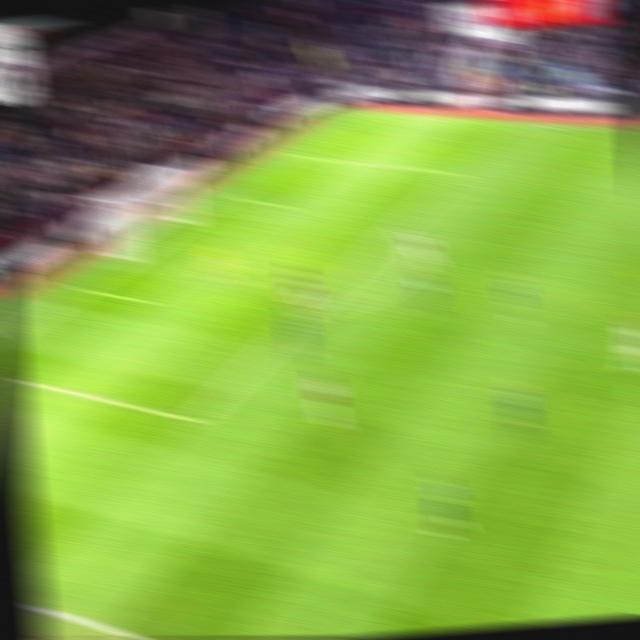bigarea_bottom_inner: (178, 408, 206, 433)
bigarea_top_inner: (444, 166, 470, 183)
bigarea_top_outter: (279, 149, 303, 160)
bottom_arc_area_intersection: (292, 305, 318, 326)
corner: (346, 107, 371, 119)
smallarea_bottom_inner: (134, 293, 159, 309)
smallarea_bottom_outter: (71, 283, 96, 296)
smallarea_top_inner: (268, 197, 292, 215)
smallarea_top_outter: (214, 191, 238, 204)
top_arc_area_intersection: (384, 221, 411, 236)
